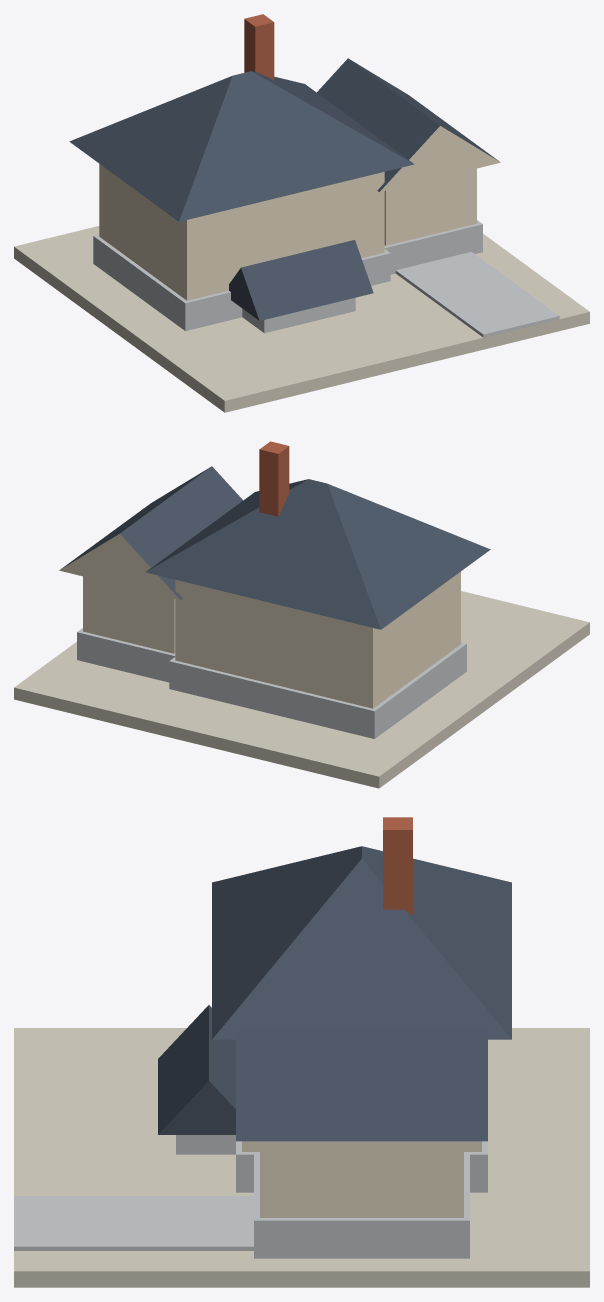
The picture shows the model from 3 angles, top to bottom: view 1: azimuth 30°, elevation 25°; view 2: azimuth 150°, elevation 25°; view 3: azimuth 270°, elevation 25°; orthographic projection. The views are drawn at different scales.
Parts seen in each view (by area): view 1: b01_v2_lod2; view 2: b01_v2_lod2; view 3: b01_v2_lod2.
Boxes of the visible parts, x1,y1,x2,y2 form: b01_v2_lod2: [14, 14, 589, 412]; b01_v2_lod2: [14, 441, 589, 788]; b01_v2_lod2: [14, 817, 589, 1287].
Bounding box in the file's own units: 0.96 × 0.62 × 0.96.
